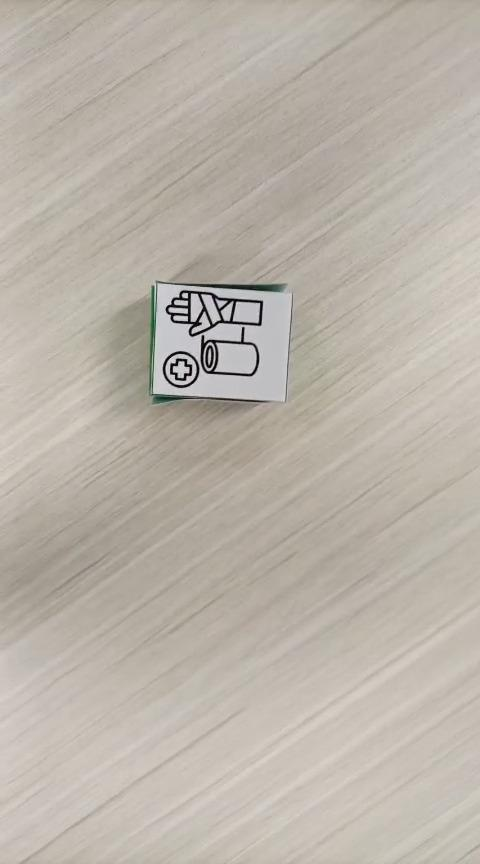Bandages: (148, 279, 292, 403)
